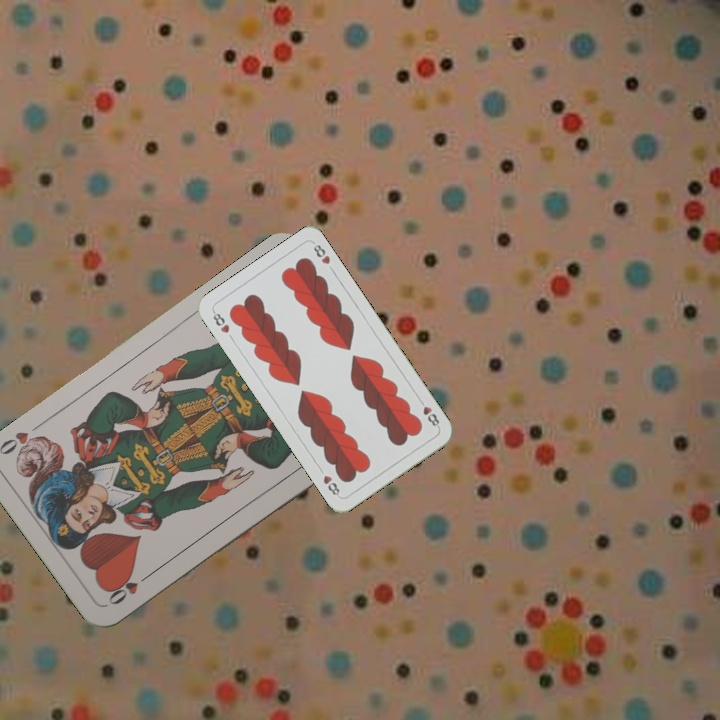H8: (415, 395, 442, 431), (208, 307, 232, 336)
HO: (104, 568, 155, 608)
